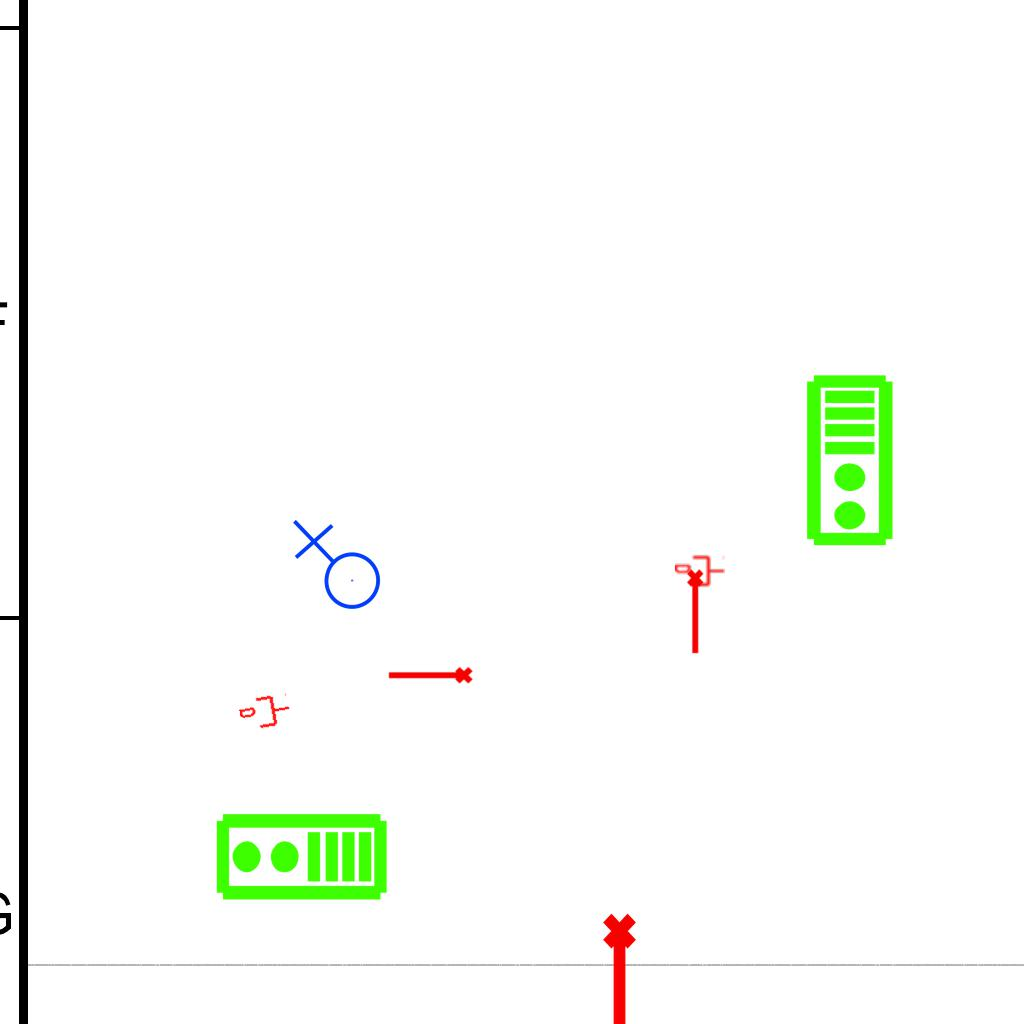ASR_Ansaugoeffnung: (599, 911, 645, 1024), (386, 665, 474, 688), (685, 568, 708, 656)
Datenanschluss_einfach: (237, 690, 293, 734), (675, 554, 725, 588)
Elektroanschluss_allgemein_230V_Geraeteanschlussdose_230V: (288, 519, 382, 618)
Gegensprechanlage_mit_Video: (804, 373, 899, 549), (213, 811, 389, 906)
